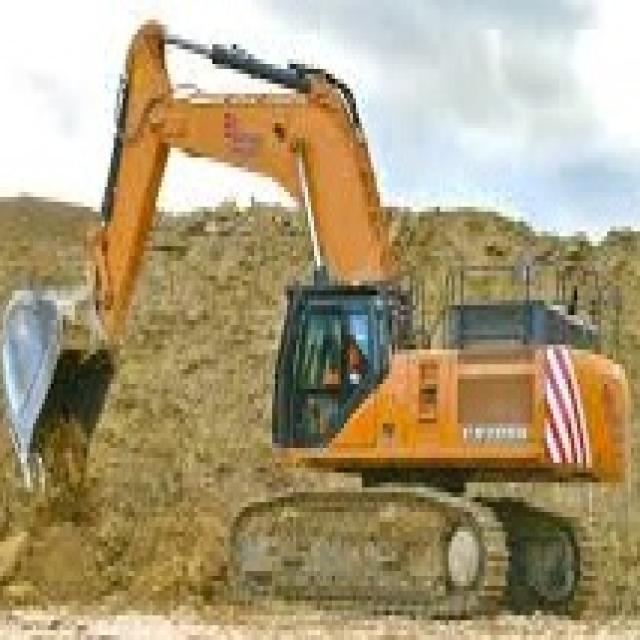excavator: (248, 234, 637, 635)
